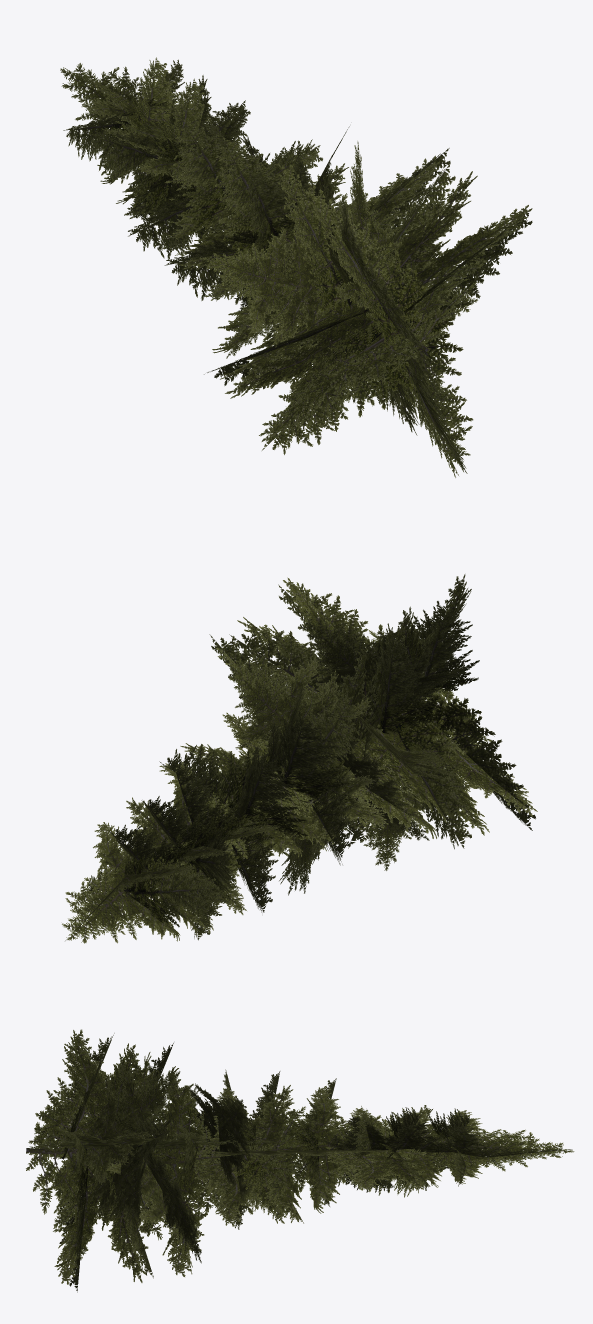
File: MEP_Con_01_a.fbx
The picture shows the model from 3 angles, top to bottom: view 1: azimuth 30°, elevation 25°; view 2: azimuth 150°, elevation 25°; view 3: azimuth 270°, elevation 25°; orthographic projection. The views are drawn at different scales.
Visible parts, largest first — view 1: MEP_Con_01_a; view 2: MEP_Con_01_a; view 3: MEP_Con_01_a.
Part boxes in pixels (bbox=[...]): MEP_Con_01_a: bbox=[60, 57, 532, 477]; MEP_Con_01_a: bbox=[62, 574, 537, 943]; MEP_Con_01_a: bbox=[26, 1029, 574, 1292].
Size of the model in its own units: 5.11 by 5.78 by 11.61.
